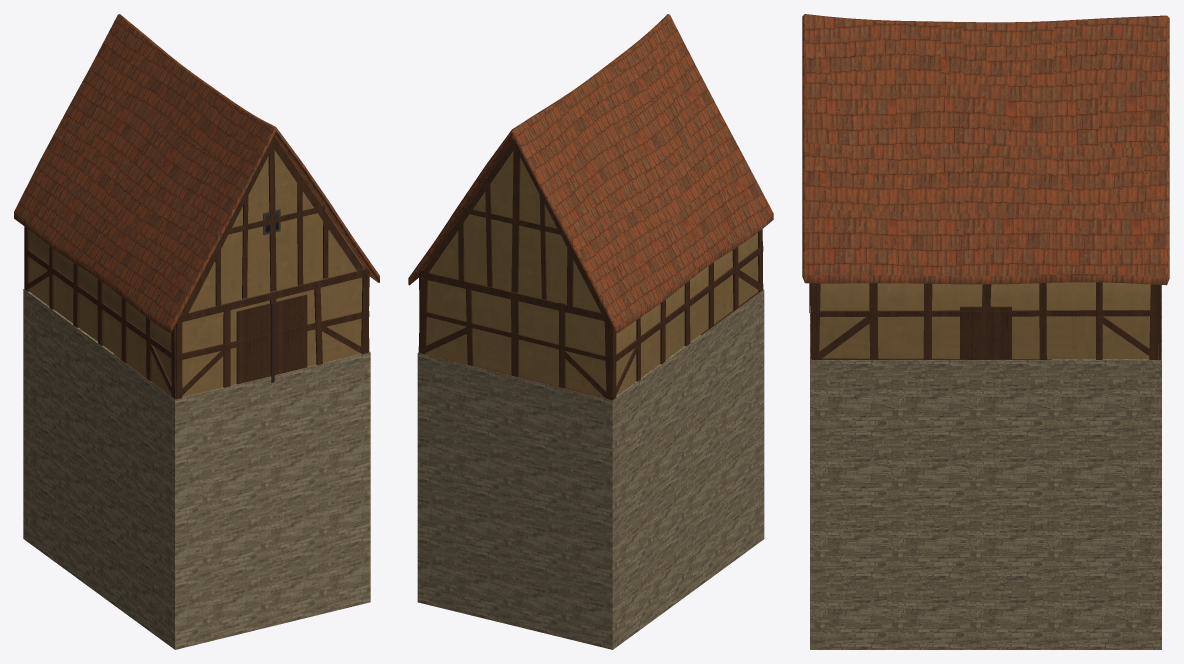
Rendered from barn.glb.
3 renders of one model, left to right at view 1: azimuth 30°, elevation 25°; view 2: azimuth 150°, elevation 25°; view 3: azimuth 270°, elevation 25°, orthographic. The views are drawn at different scales.
Visible parts, largest first — view 1: barn_export; view 2: barn_export; view 3: barn_export.
Part boxes in pixels (<box>): barn_export: <box>14,14,379,649</box>; barn_export: <box>408,14,773,649</box>; barn_export: <box>802,14,1169,649</box>.
Size of the model in its own units: 15.28 by 34.87 by 20.
Materials: 5 (5 with a texture image).
